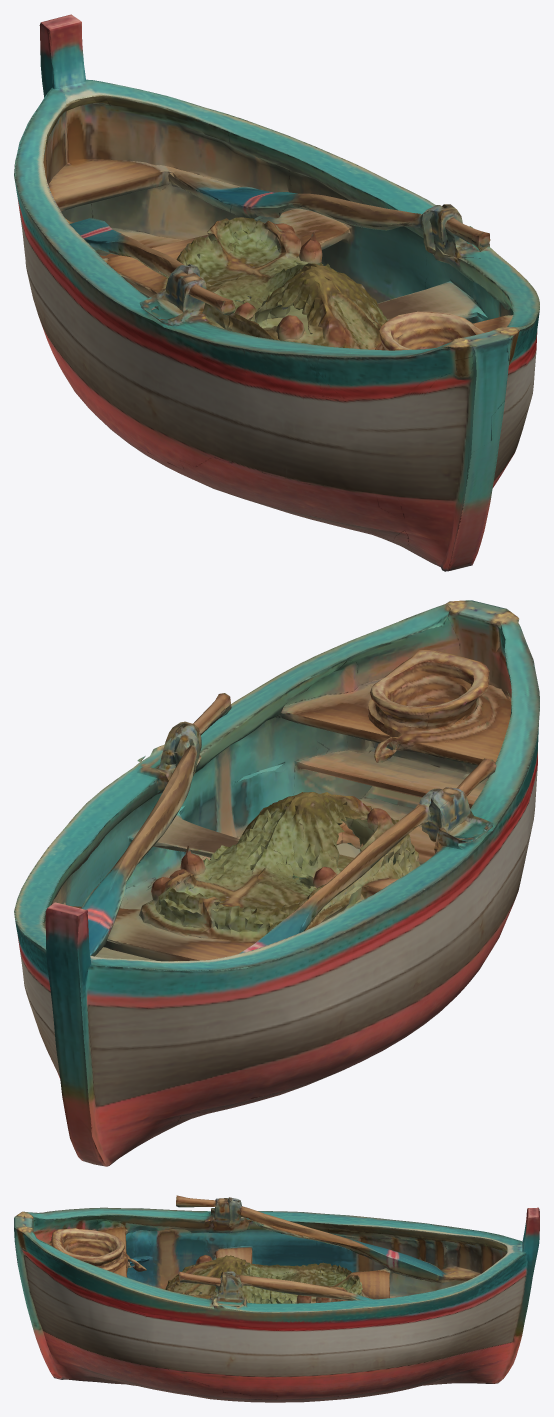
The model's file is boat_jaffa_rowboat.glb.
The picture shows the model from 3 angles, top to bottom: view 1: azimuth 30°, elevation 25°; view 2: azimuth 150°, elevation 25°; view 3: azimuth 270°, elevation 25°; orthographic projection. The views are drawn at different scales.
Visible parts, largest first — view 1: geometry_0; view 2: geometry_0; view 3: geometry_0.
Boxes of the visible parts, <box> form: geometry_0: <box>14,14,539,571</box>; geometry_0: <box>14,600,539,1166</box>; geometry_0: <box>14,1195,539,1402</box>.
Size of the model in its own units: 2.29 by 1.77 by 5.
1 material, 1 textured.
